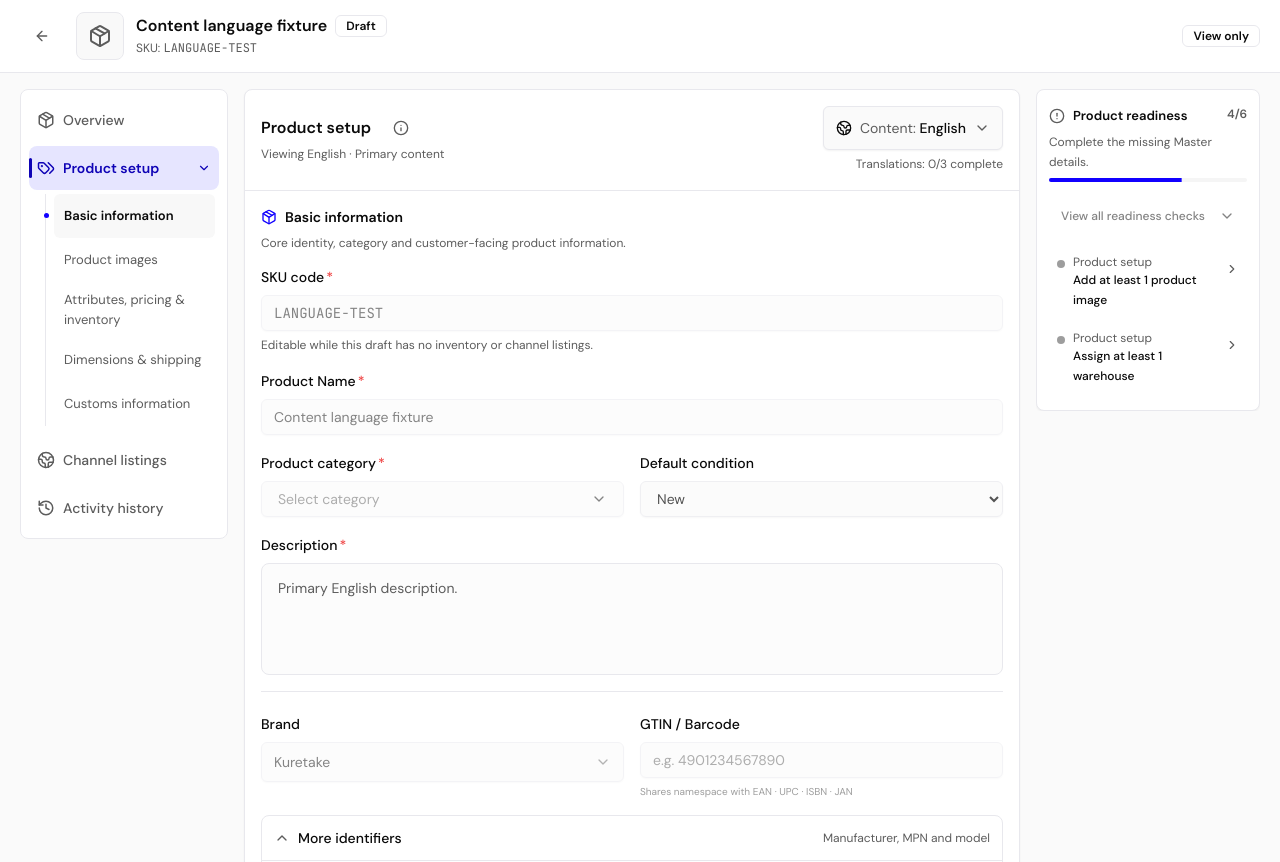
Test case: Product data content language › allows read-only viewers to select a language without enabling edits
Press ArrowDown in the button "Content: English", box [823,106,1003,150]
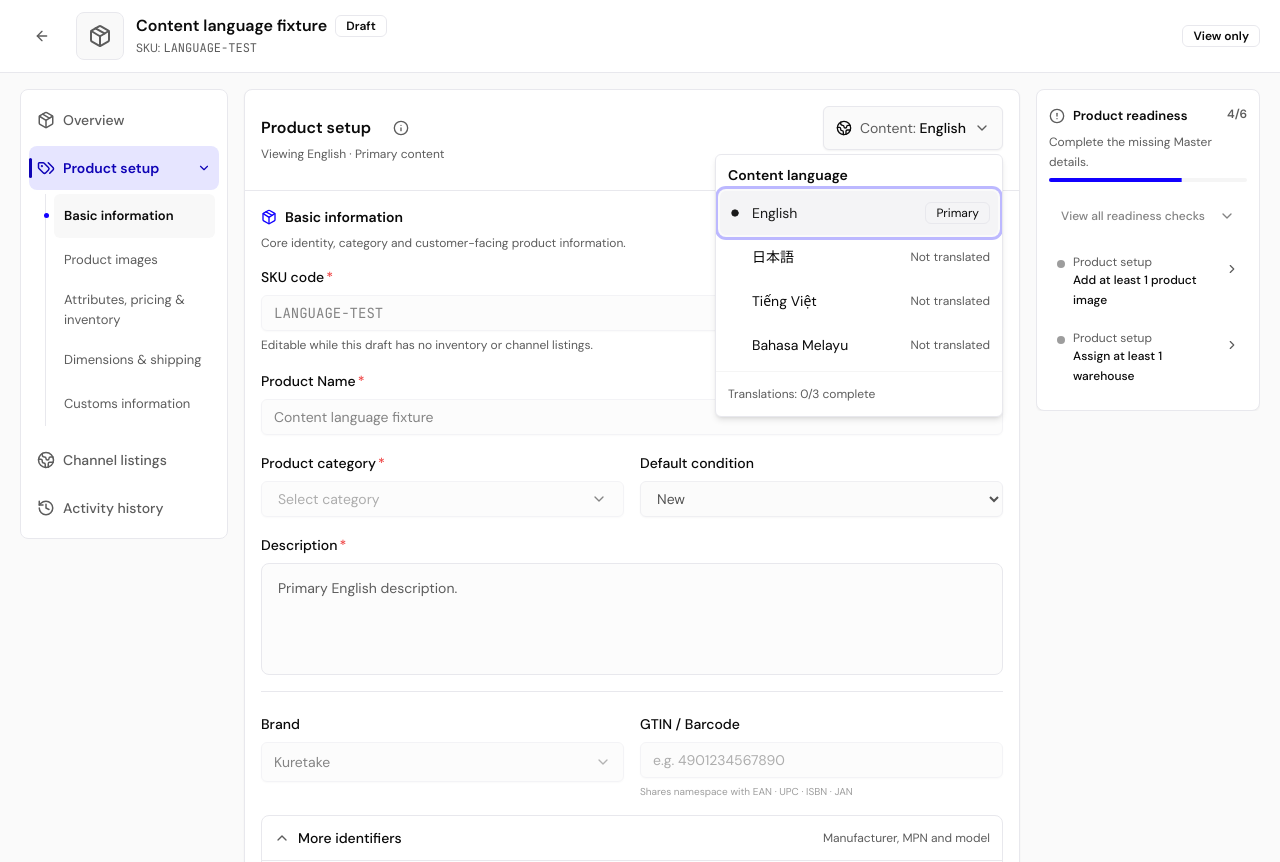
Click the menu item "日本語 Not translated": coordinates (773, 257) [752,248,990,266]
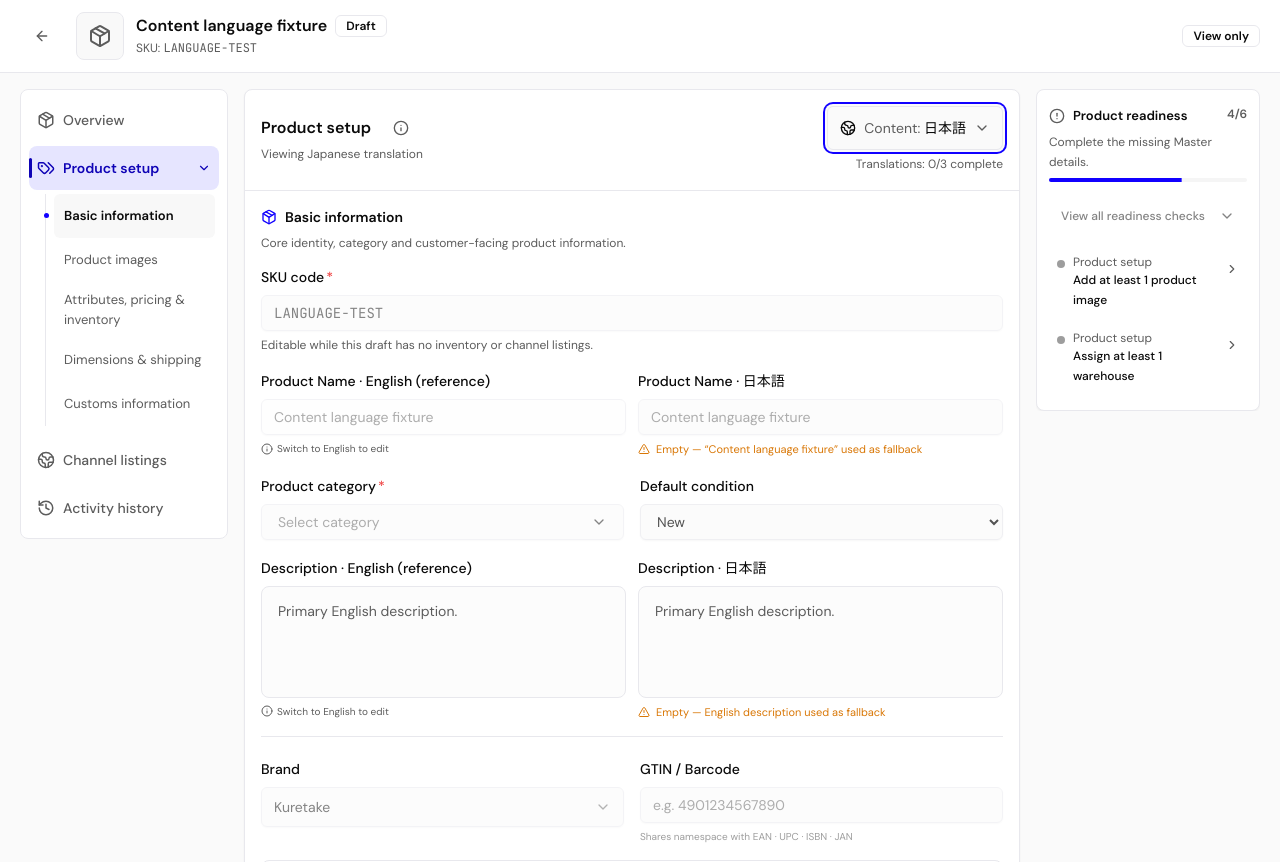
Expected: the text "Viewing Japanese translation" is shown, [261,146,423,162]
Expected: the field with id "localized-product-name" is disabled, [638,399,1003,435]
